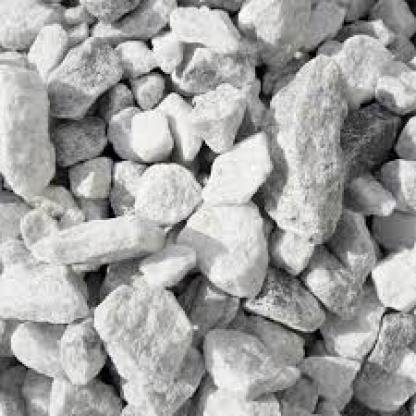Metamorphic_Marble: (248, 66, 362, 270), (90, 262, 212, 412), (174, 196, 275, 298), (2, 46, 66, 204), (35, 216, 176, 276), (201, 322, 283, 394), (107, 92, 183, 161)
